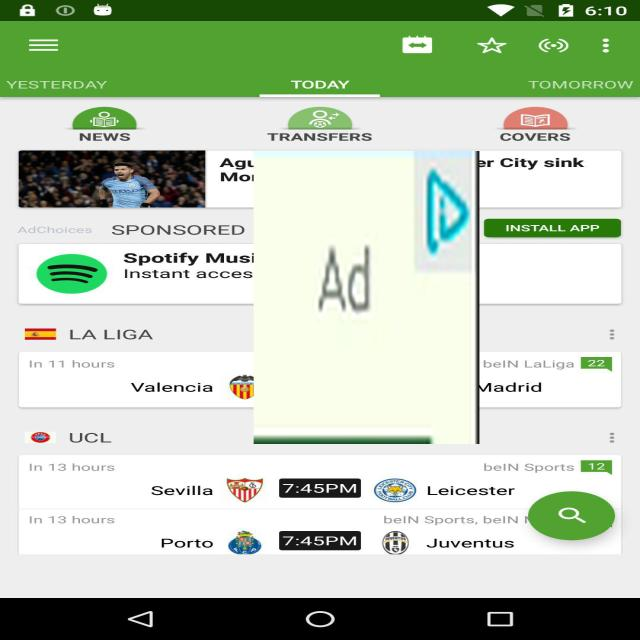sneaking: (253, 151, 480, 444)
